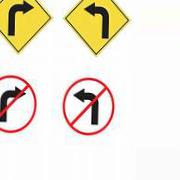left: (63, 1, 131, 55)
right: (1, 1, 51, 52)
